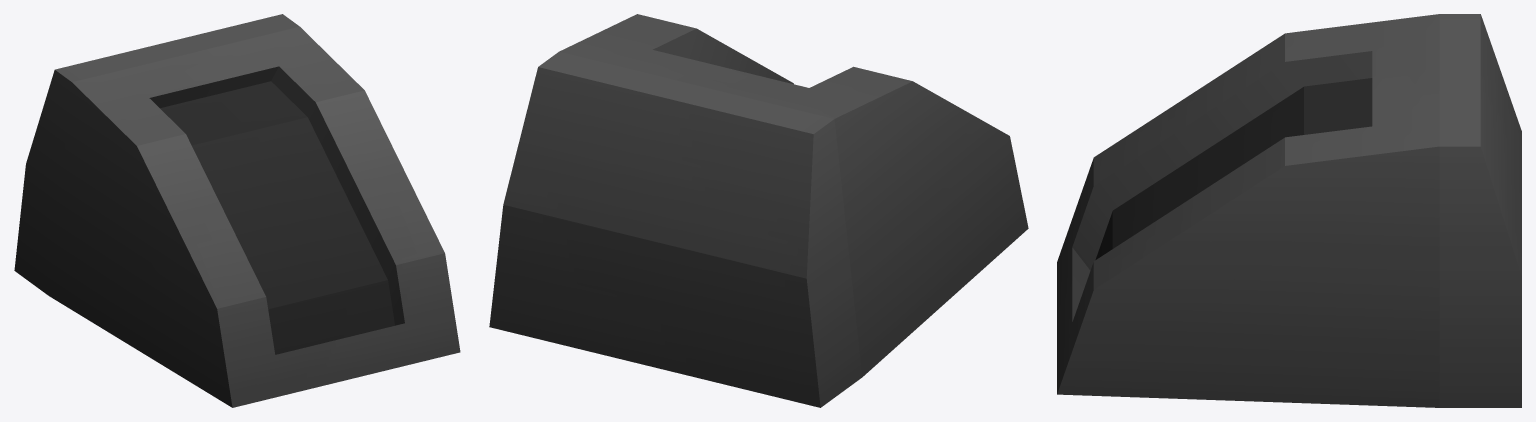
The model's file is pdc.glb.
3 renders of one model, left to right at view 1: azimuth 30°, elevation 25°; view 2: azimuth 150°, elevation 25°; view 3: azimuth 270°, elevation 25°, orthographic. The views are drawn at different scales.
Parts seen in each view (by area): view 1: PDC; view 2: PDC; view 3: PDC.
Part boxes in pixels (x1,y1,x2,y2): PDC: (14, 14, 460, 407); PDC: (489, 14, 1028, 407); PDC: (1057, 14, 1521, 407).
Bounding box in the file's own units: 1.46 × 1.06 × 1.8.
Materials: 1 (1 with a texture image).
